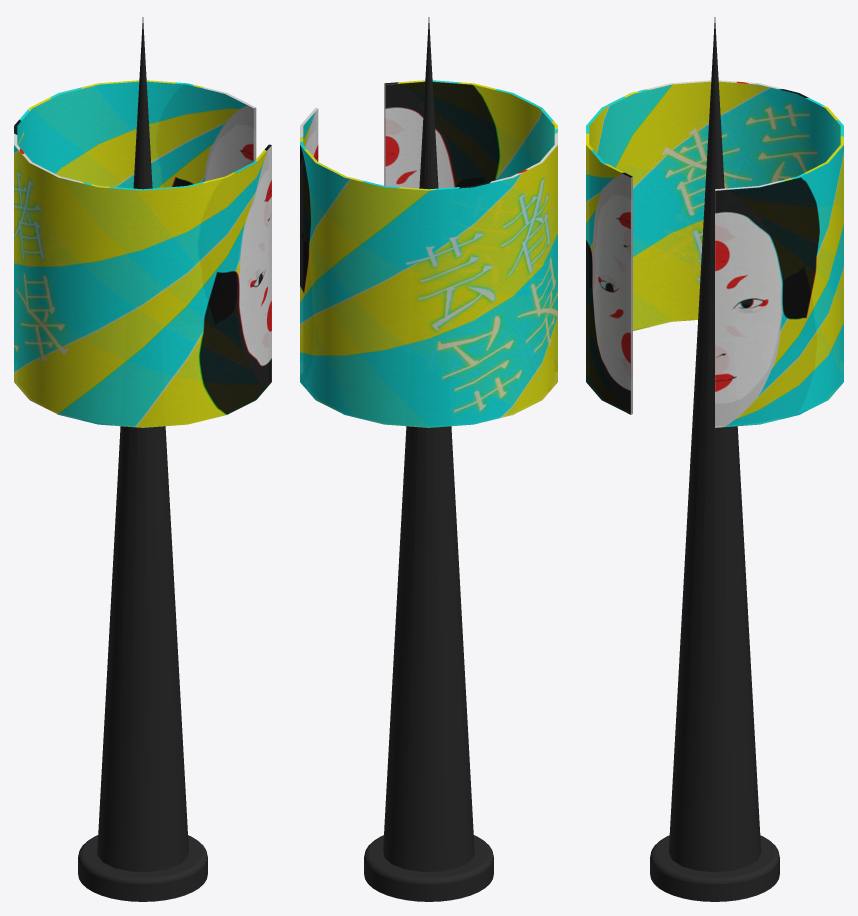
File: Geisha.fbx
The picture shows the model from 3 angles, left to right: view 1: azimuth 30°, elevation 25°; view 2: azimuth 150°, elevation 25°; view 3: azimuth 270°, elevation 25°; orthographic projection.
Visible parts, largest first — view 1: Tube, Cone, Extrude; view 2: Tube, Cone, Extrude; view 3: Tube, Cone, Extrude.
Part boxes in pixels (x1,y1,x2,y2): Tube: (14, 80, 271, 427); Cone: (97, 17, 188, 871); Extrude: (78, 835, 207, 901); Tube: (300, 80, 557, 427); Cone: (383, 17, 474, 871); Extrude: (364, 835, 493, 901); Tube: (586, 80, 843, 427); Cone: (668, 17, 761, 872); Extrude: (650, 835, 779, 901).
Bounding box in the file's own units: 276 × 1000 × 272.
2 materials, 1 textured.
